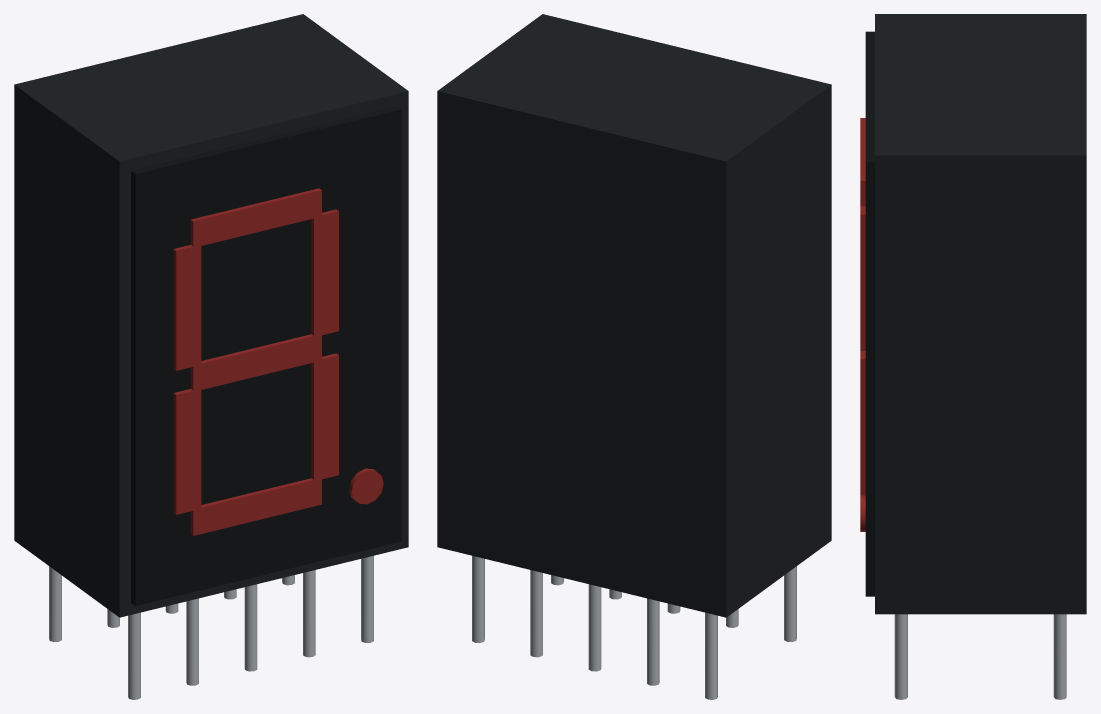
Rendered from cmp-segment7.glb.
3 views of the same model, side by side, from view 1: azimuth 30°, elevation 25°; view 2: azimuth 150°, elevation 25°; view 3: azimuth 270°, elevation 25° (orthographic).
Parts seen in each view (by area): view 1: STATIC_paint, STATIC_metal; view 2: STATIC_paint, STATIC_metal; view 3: STATIC_paint, STATIC_metal.
Boxes of the visible parts, left/top/right/bottom form: STATIC_paint: left=14, top=14, right=408, bottom=617; STATIC_metal: left=49, top=555, right=373, bottom=699; STATIC_paint: left=437, top=14, right=831, bottom=617; STATIC_metal: left=472, top=555, right=796, bottom=699; STATIC_paint: left=860, top=14, right=1086, bottom=614; STATIC_metal: left=894, top=614, right=1066, bottom=699.
Bounding box in the file's own units: 0.0126 × 0.023 × 0.0085.
